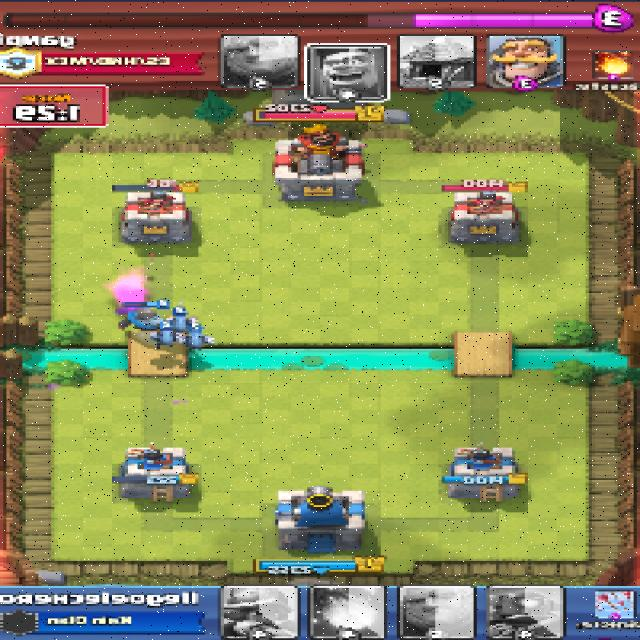Player-Knight: (119, 306, 171, 333)
Player-Minion: (146, 327, 178, 348), (181, 330, 212, 348), (170, 314, 194, 332)
